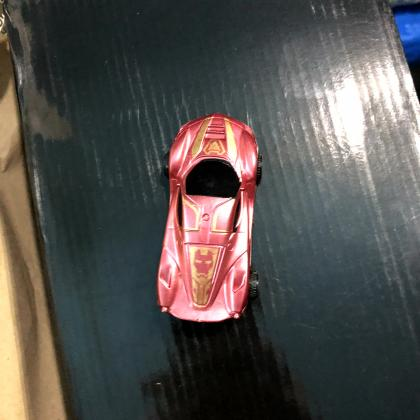Car: (154, 111, 263, 324)
